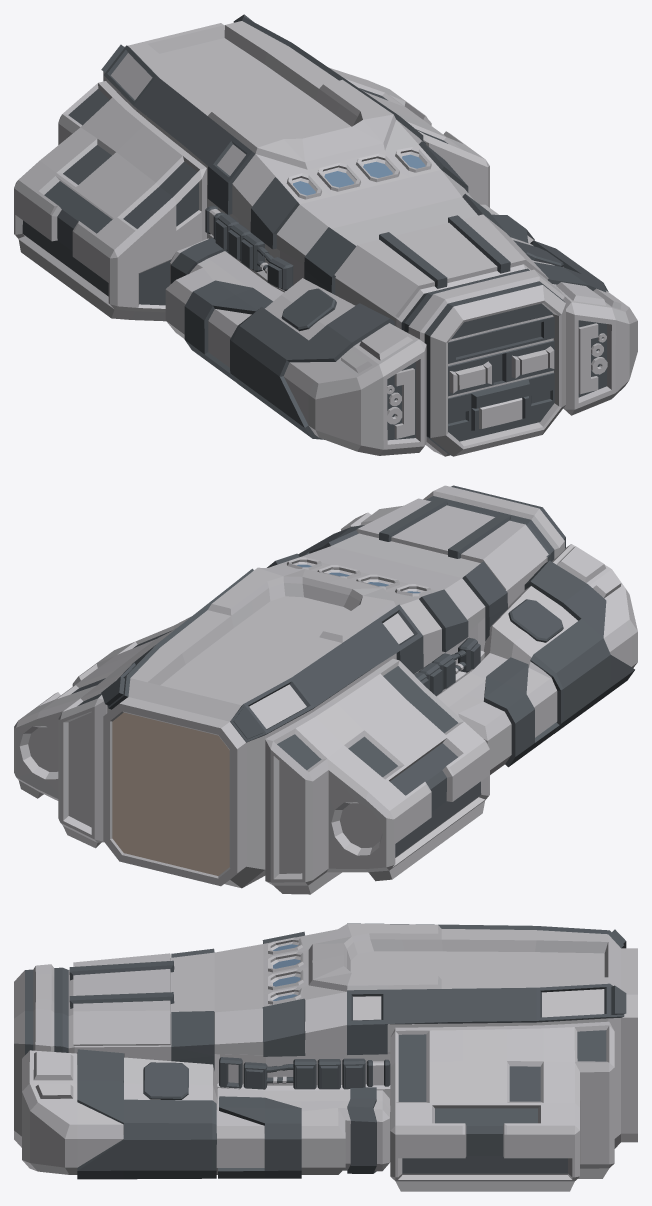
File: Mothership_01_Body.fbx
3 renders of one model, top to bottom at view 1: azimuth 30°, elevation 25°; view 2: azimuth 150°, elevation 25°; view 3: azimuth 270°, elevation 25°, orthographic. The views are drawn at different scales.
Visible parts, largest first — view 1: Mothership_01_Body; view 2: Mothership_01_Body; view 3: Mothership_01_Body.
Boxes of the visible parts, x1,y1,x2,y2 form: Mothership_01_Body: (14,14,637,456); Mothership_01_Body: (14,485,637,894); Mothership_01_Body: (14,923,637,1191).
Size of the model in its own units: 4176 by 2023 by 6353.
3 materials, 3 textured.
